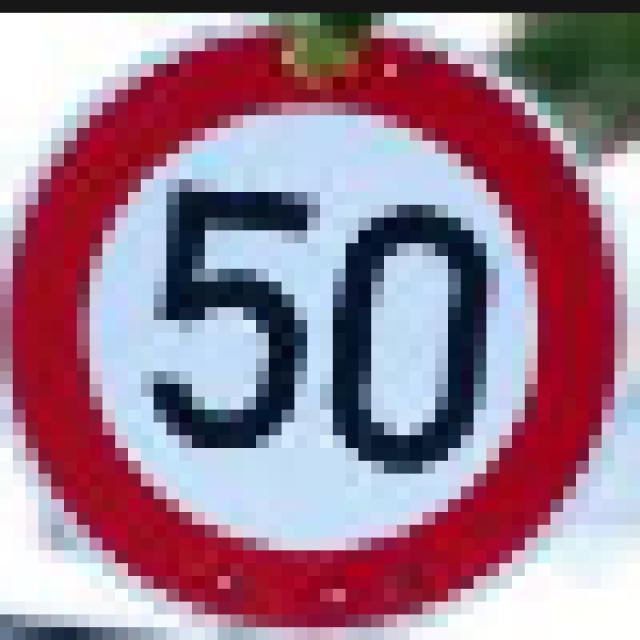Limite-50: (2, 19, 620, 630)
